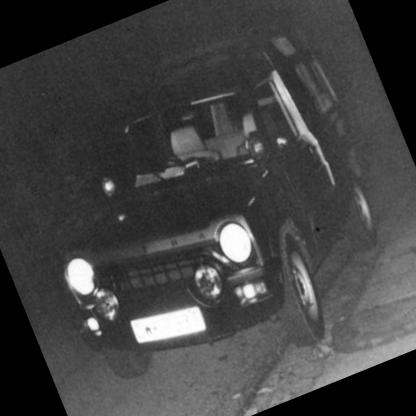car: (1, 10, 416, 416)
